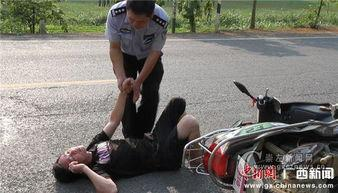bending: (101, 1, 178, 147)
down: (45, 77, 208, 192)
